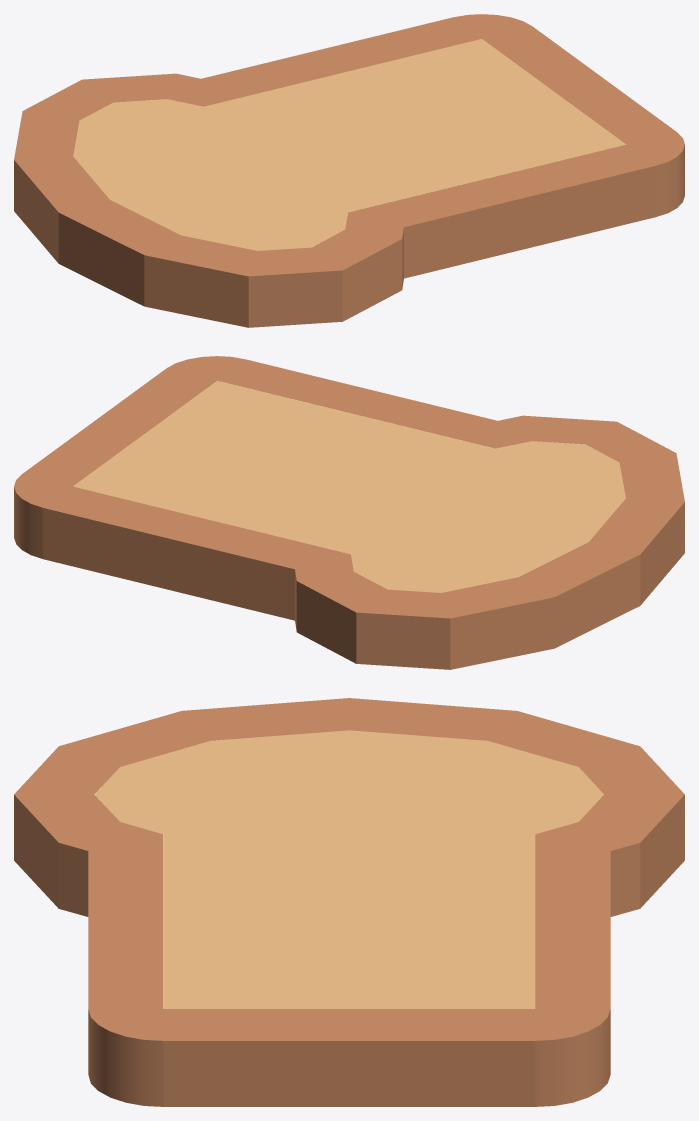
The model's file is toast.m.glb.
3 views of the same model, one above another, from view 1: azimuth 30°, elevation 25°; view 2: azimuth 150°, elevation 25°; view 3: azimuth 270°, elevation 25° (orthographic). The views are drawn at different scales.
Visible parts, largest first — view 1: bread; view 2: bread; view 3: bread.
Part boxes in pixels (x1,y1,x2,y2): bread: (14,14,684,327); bread: (14,356,684,669); bread: (14,698,684,1106).
Size of the model in its own units: 0.07 by 0.00629 by 0.0579.
